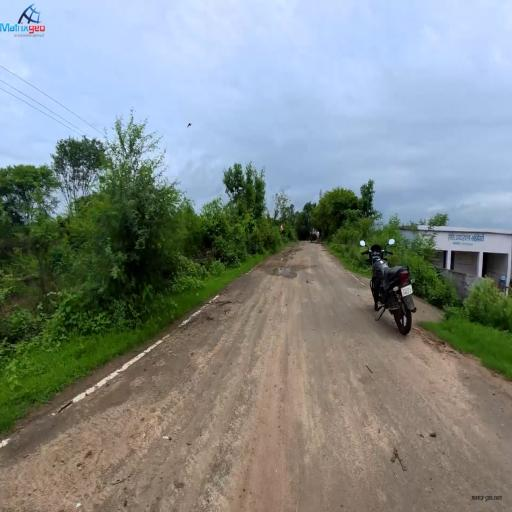pothole: (273, 258, 292, 284)
